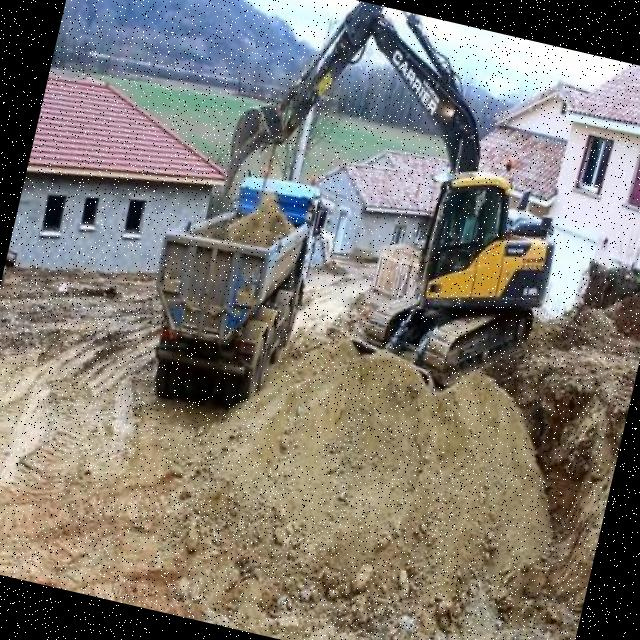Dump Truck: (125, 144, 336, 428)
Excavator: (184, 0, 602, 407)
